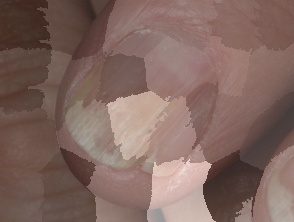Nail_psoriasis: (49, 47, 204, 192)
